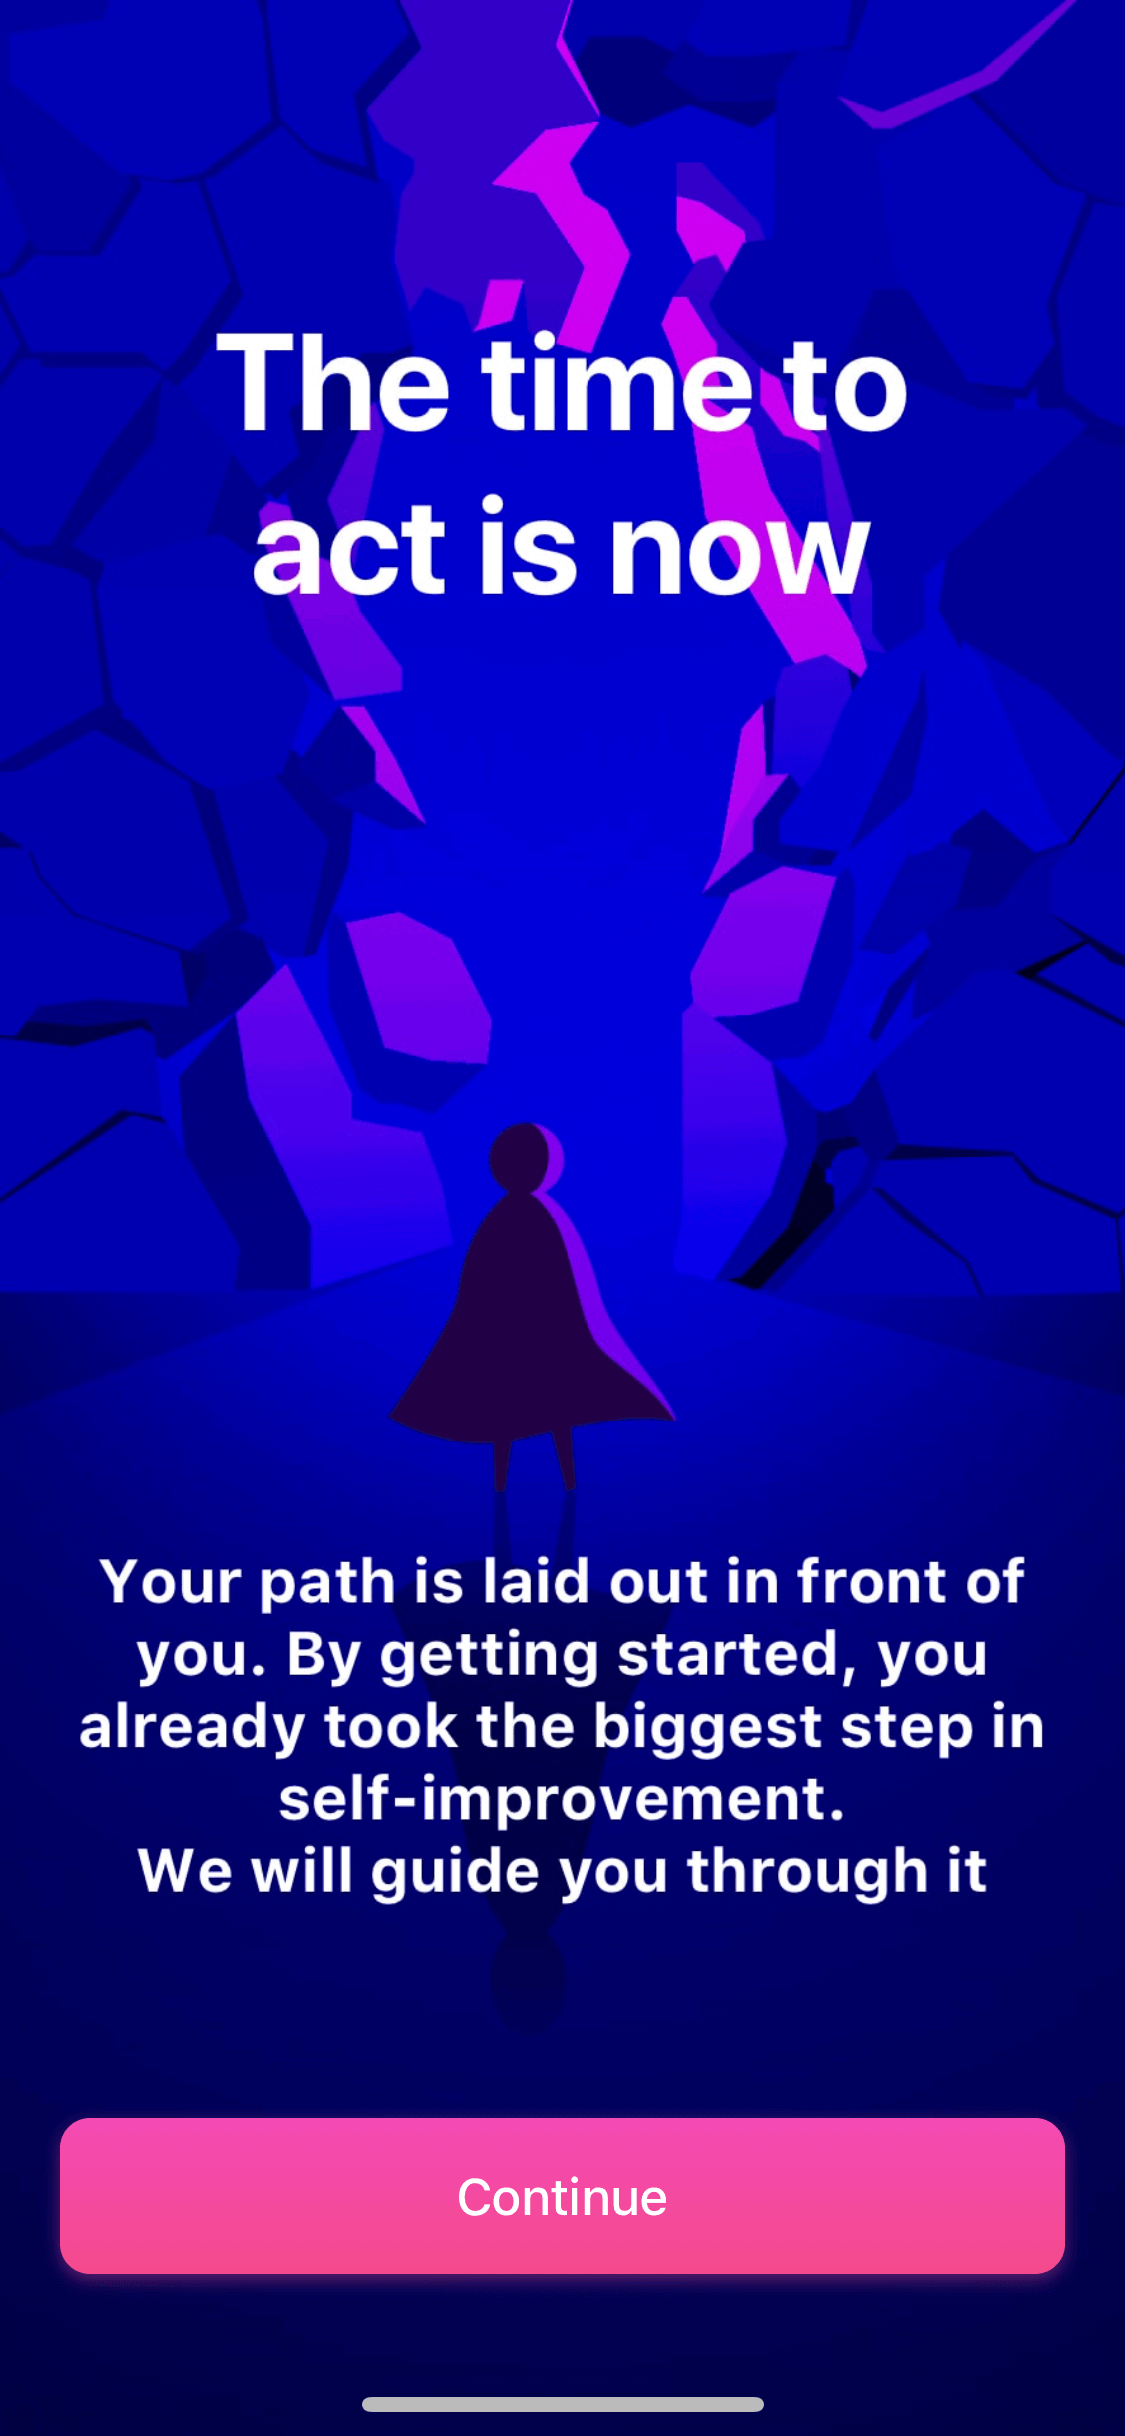Buttons: (39, 2096, 1080, 2292)
